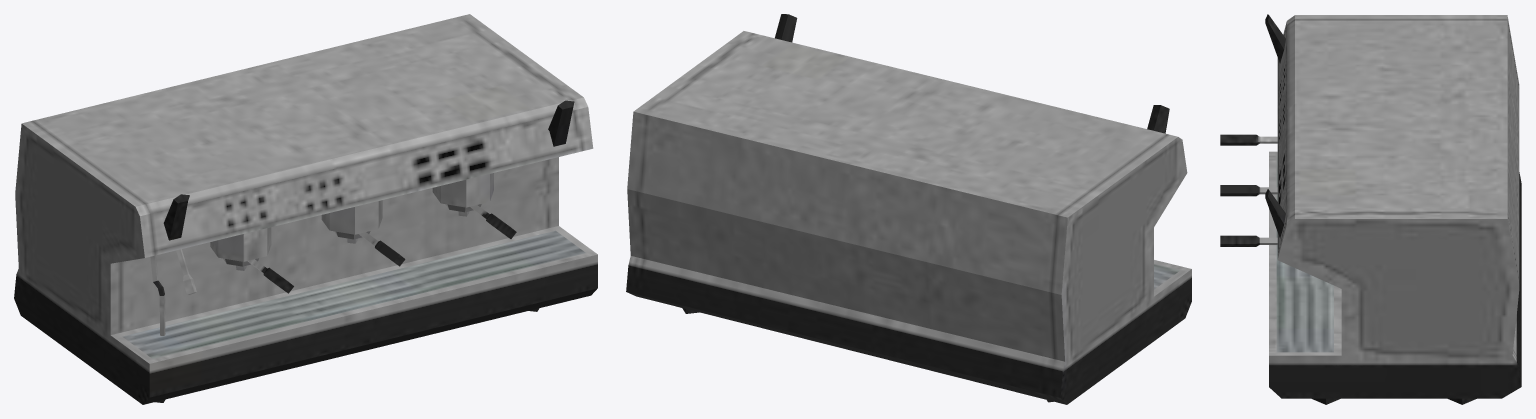
The model's file is CoffeeMachine.glb.
3 views of the same model, side by side, from view 1: azimuth 30°, elevation 25°; view 2: azimuth 150°, elevation 25°; view 3: azimuth 270°, elevation 25° (orthographic). The views are drawn at different scales.
Parts seen in each view (by area): view 1: Coffee_machine; view 2: Coffee_machine; view 3: Coffee_machine.
Boxes of the visible parts, left/top/right/bottom form: Coffee_machine: left=14, top=14, right=597, bottom=404; Coffee_machine: left=626, top=14, right=1191, bottom=404; Coffee_machine: left=1220, top=14, right=1521, bottom=404.
Size of the model in its own units: 1.52 by 0.7344 by 0.9504.
Materials: 1 (1 with a texture image).
